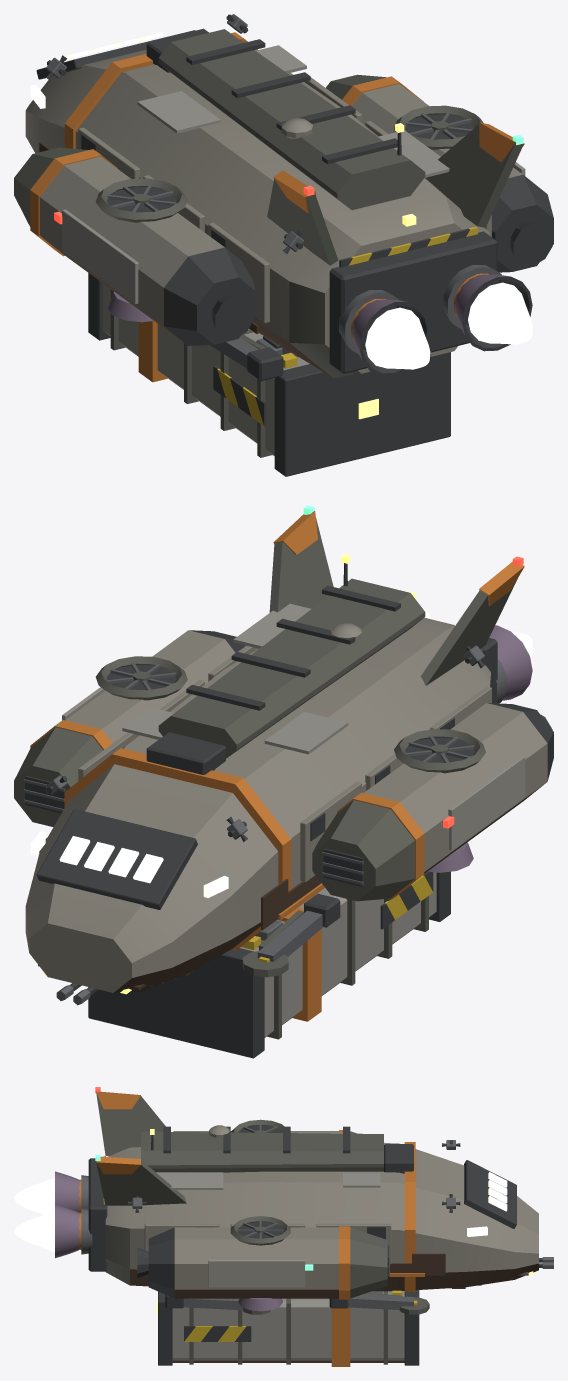
File: dropship.glb
The picture shows the model from 3 angles, top to bottom: view 1: azimuth 30°, elevation 25°; view 2: azimuth 150°, elevation 25°; view 3: azimuth 270°, elevation 25°; orthographic projection. The views are drawn at different scales.
Visible parts, largest first — view 1: dropship_hull, dropship_pod, engine_glow; view 2: dropship_hull, dropship_pod; view 3: dropship_hull, dropship_pod, engine_glow.
Part boxes in pixels (left/top/right/bottom): dropship_hull: left=14, top=14, right=553, bottom=381; dropship_pod: left=88, top=273, right=450, bottom=476; engine_glow: left=365, top=282, right=532, bottom=369; dropship_hull: left=14, top=505, right=553, bottom=1005; dropship_pod: left=88, top=871, right=450, bottom=1058; dropship_hull: left=55, top=1087, right=553, bottom=1314; dropship_pod: left=156, top=1290, right=419, bottom=1366; engine_glow: left=14, top=1178, right=54, bottom=1251.
Bounding box in the file's own units: 8.06 × 6.52 × 14.45.
